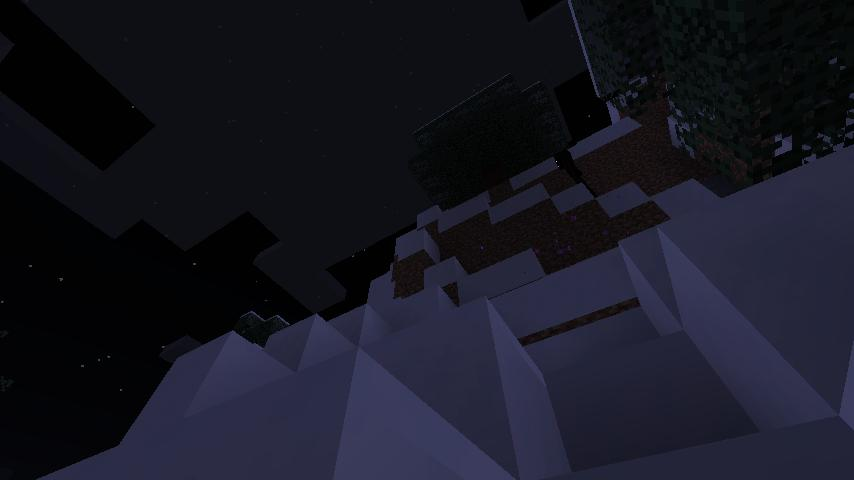enderman: (553, 148, 598, 198)
